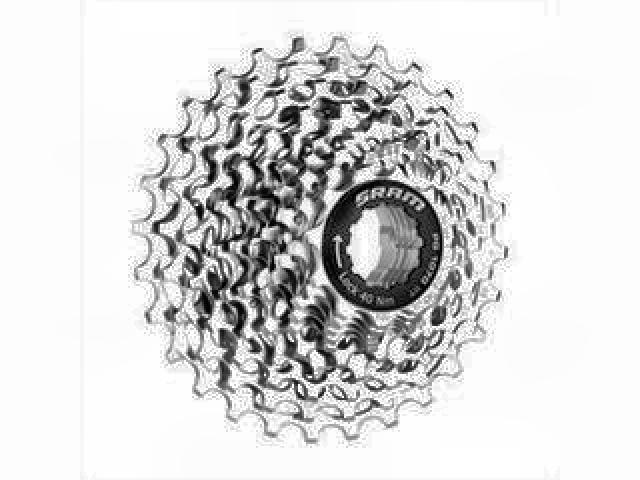cassette: (130, 39, 510, 449)
